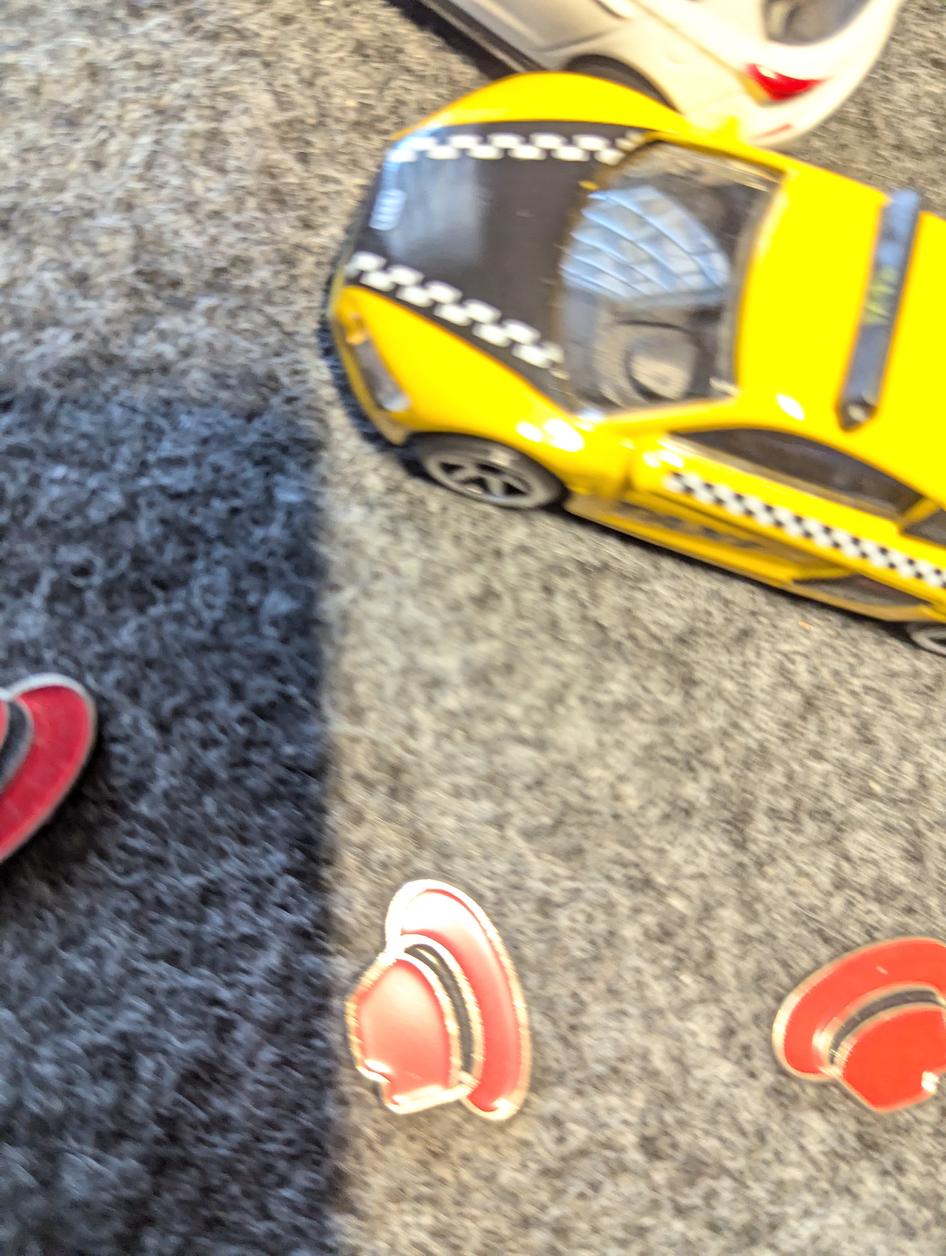Car: (295, 9, 946, 710)
Red-Hat: (302, 839, 577, 1177), (728, 870, 946, 1134)
